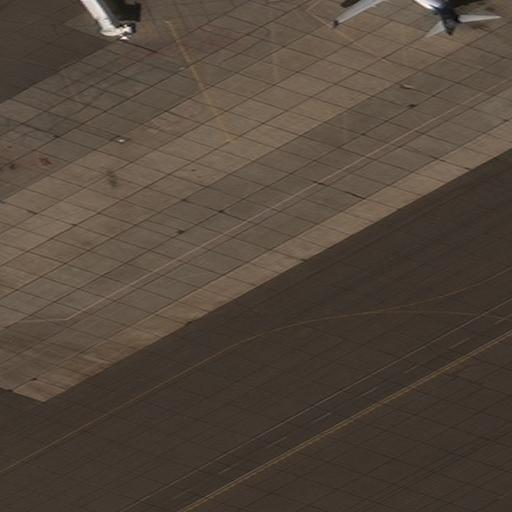Medium Civil Transport: (333, 0, 483, 34)
